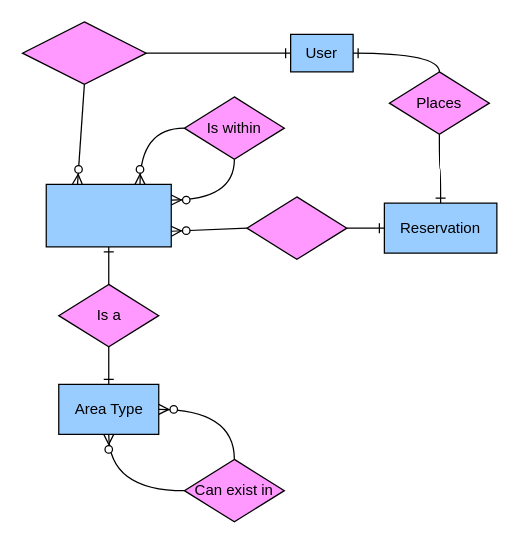
The diagram is 519 pixels wide and 544 high, and some of its shapes have lost their labels. The shapes that lost their labels are listed below. From the top down, each one's centre as x and y in pixels, then its label:
At point (83, 52): "Administrates".
At point (108, 215): "Area".
At point (296, 227): "Is for an".
